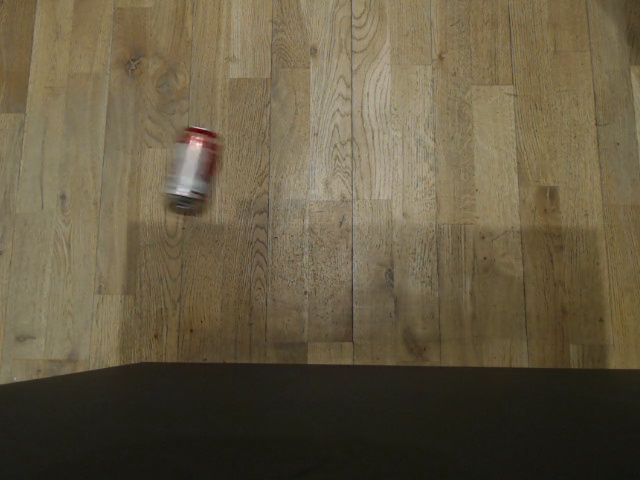coke: (161, 125, 221, 212)
